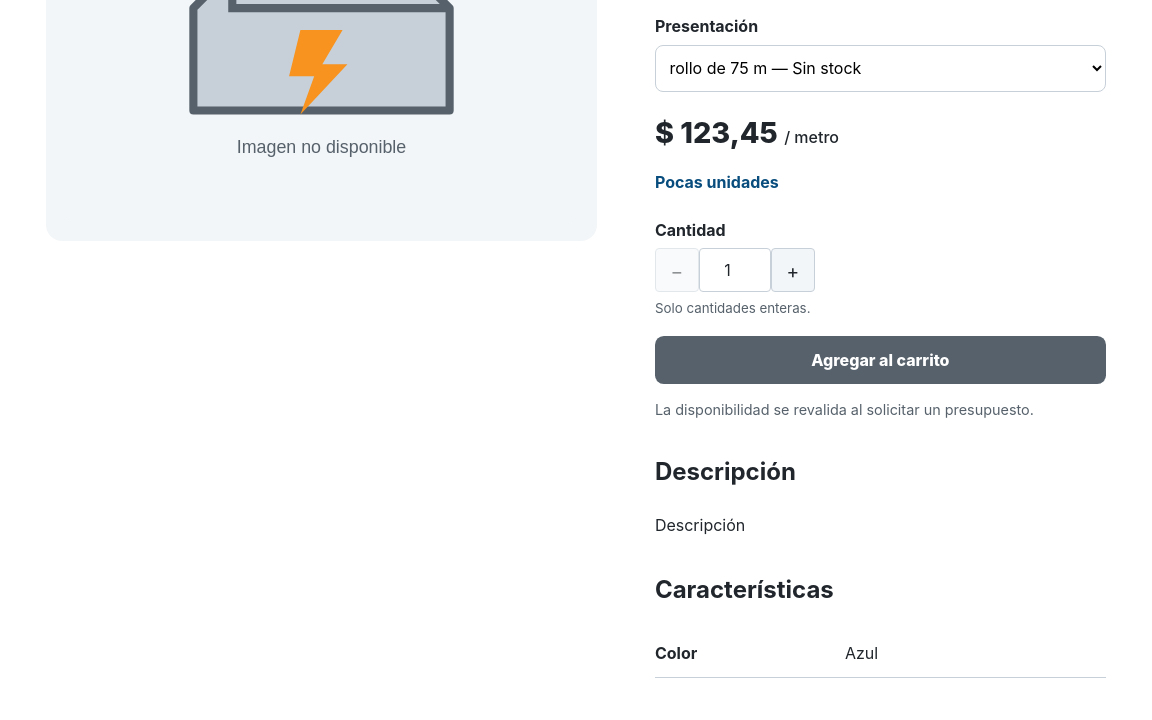
Test: ProductDetailPageComponent › starts on the API display presentation and adds only a sellable presentation to the cart
(page scrolled)
What coordinates should you click on to do the following:
click the button with class "add-to-cart"
I would click on:
 (880, 360)
Its box is [655,336,1106,384].
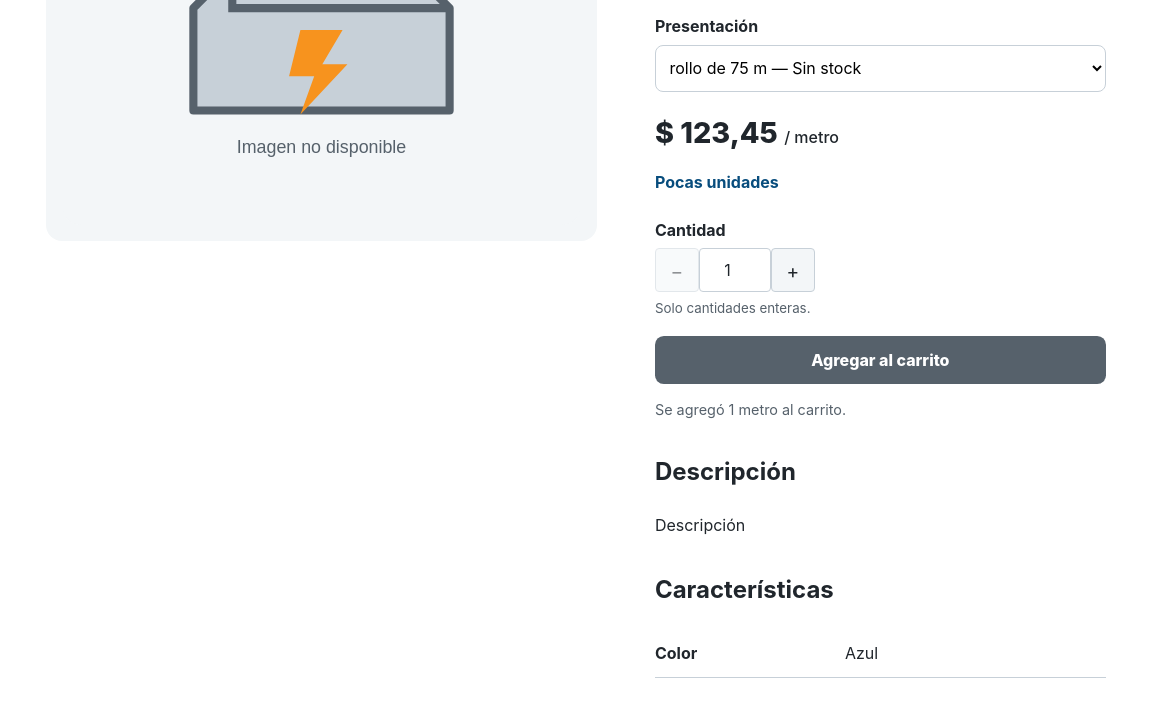
Now the message "Se agregó 1 metro al carrito." is shown, box [655,401,846,418]
